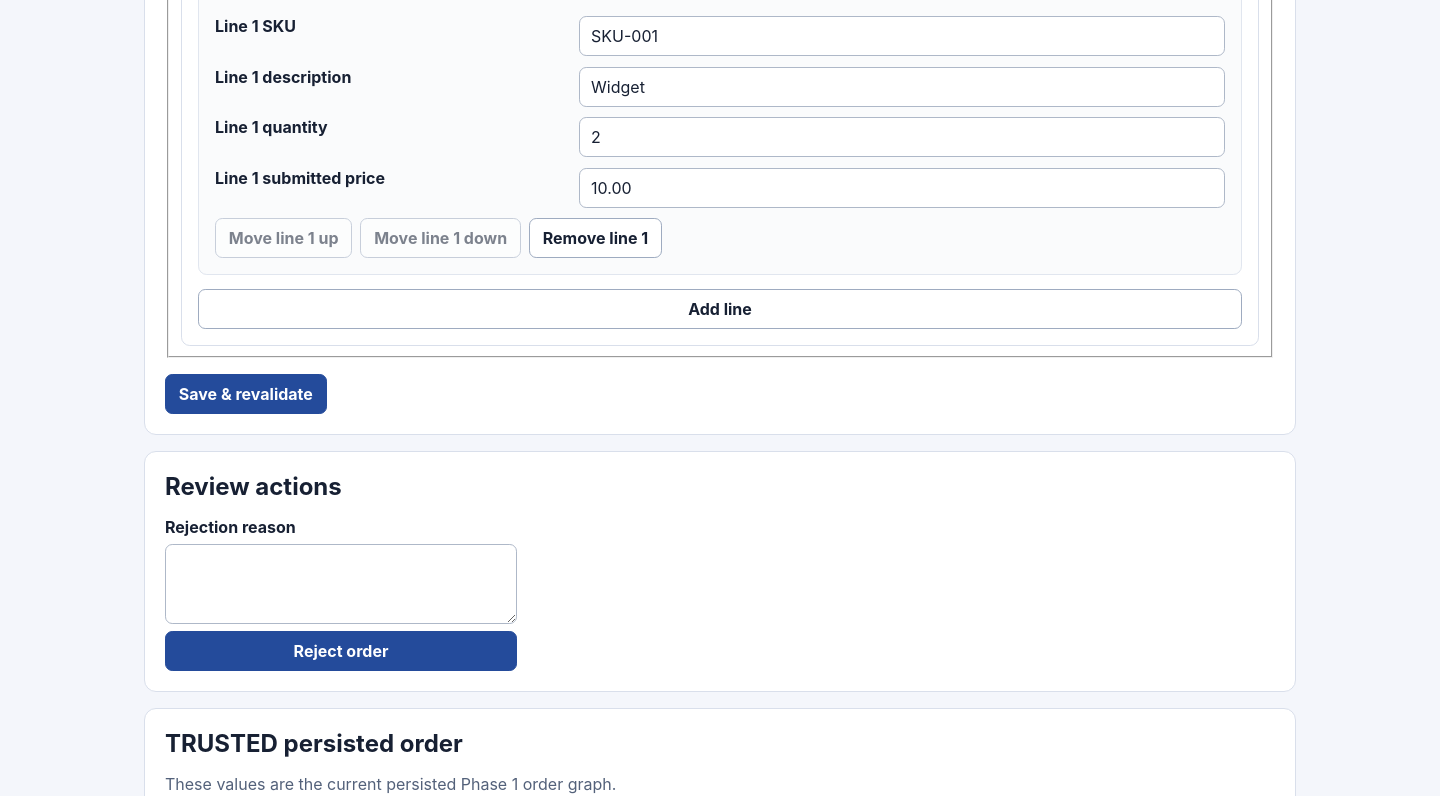
Test: ReviewDetailPage › shows stale-case reload and adopts the fresh server draft without replaying the save
(page scrolled)
Click the button "Save & revalidate" at x=246, y=394, box [165,374,327,414]
(page scrolled)
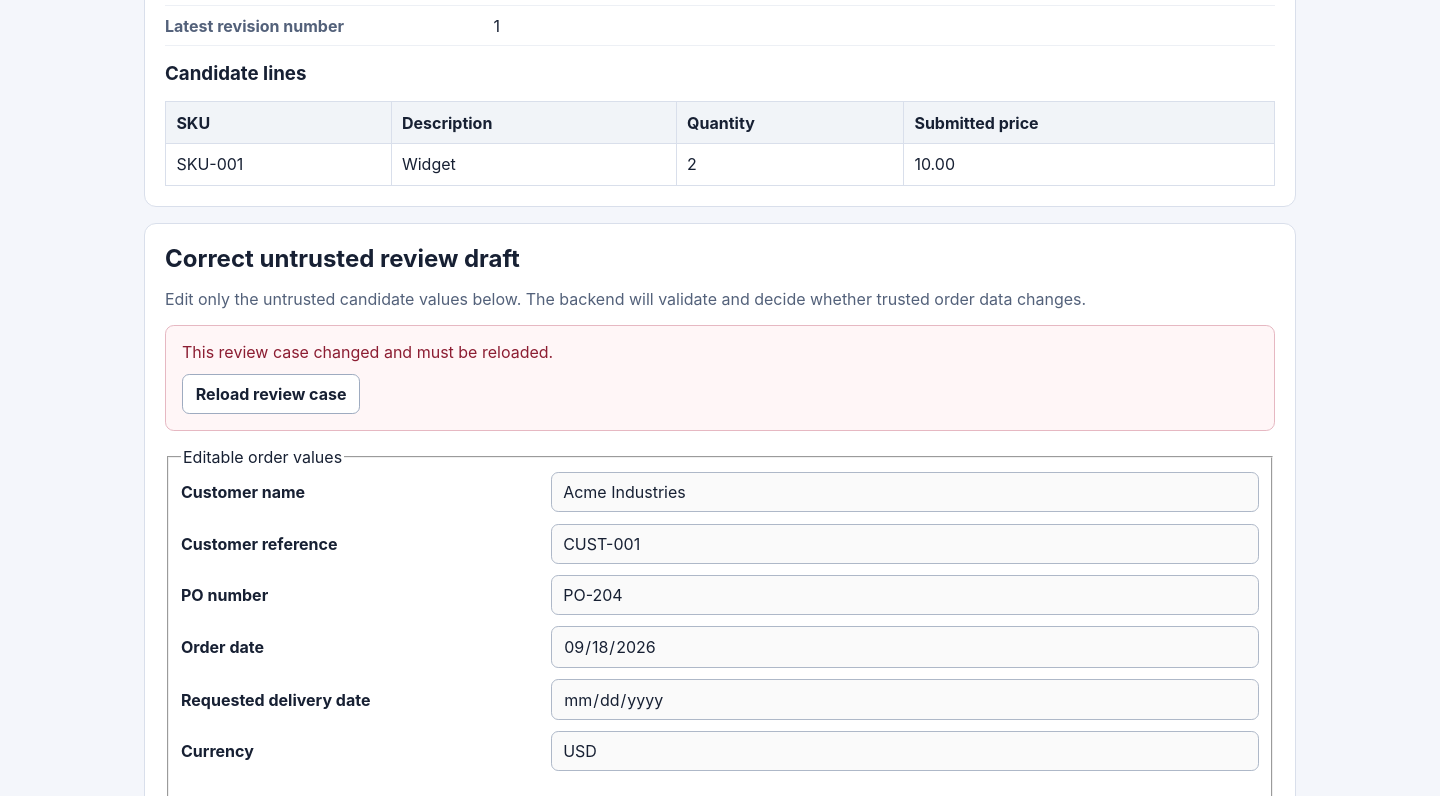
Expected: the message shows "This review case changed and must be reloaded.", [182,342,553,362]
Click the button "Reload review case" at x=271, y=394, box [182,374,360,414]
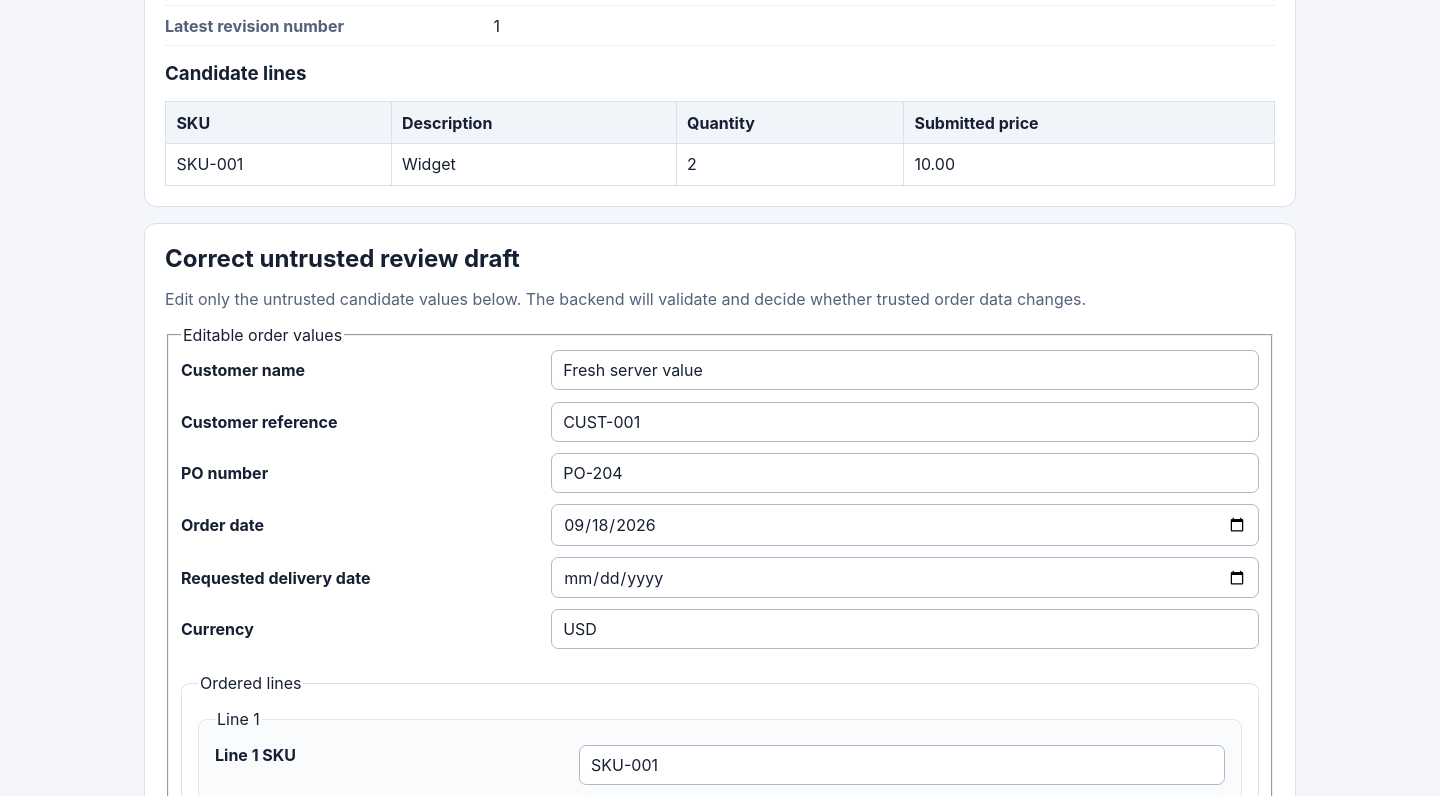
Expected: the field showing "Fresh server value" is shown, [551,350,1259,390]
